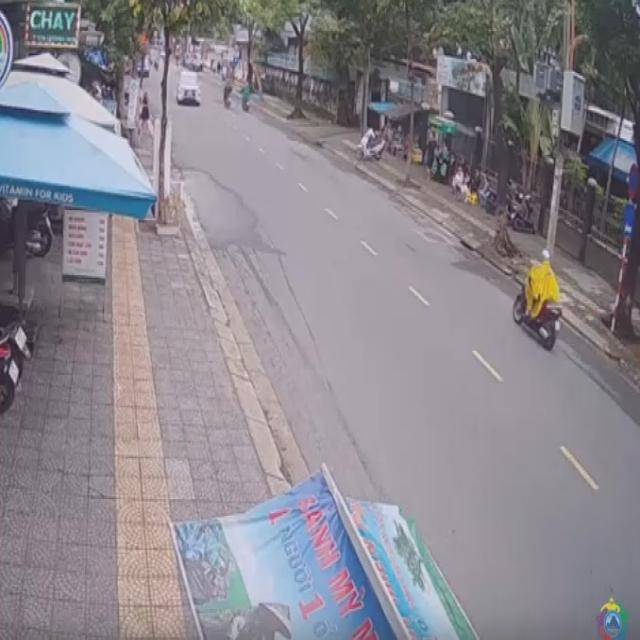motorbike: (509, 251, 565, 354)
